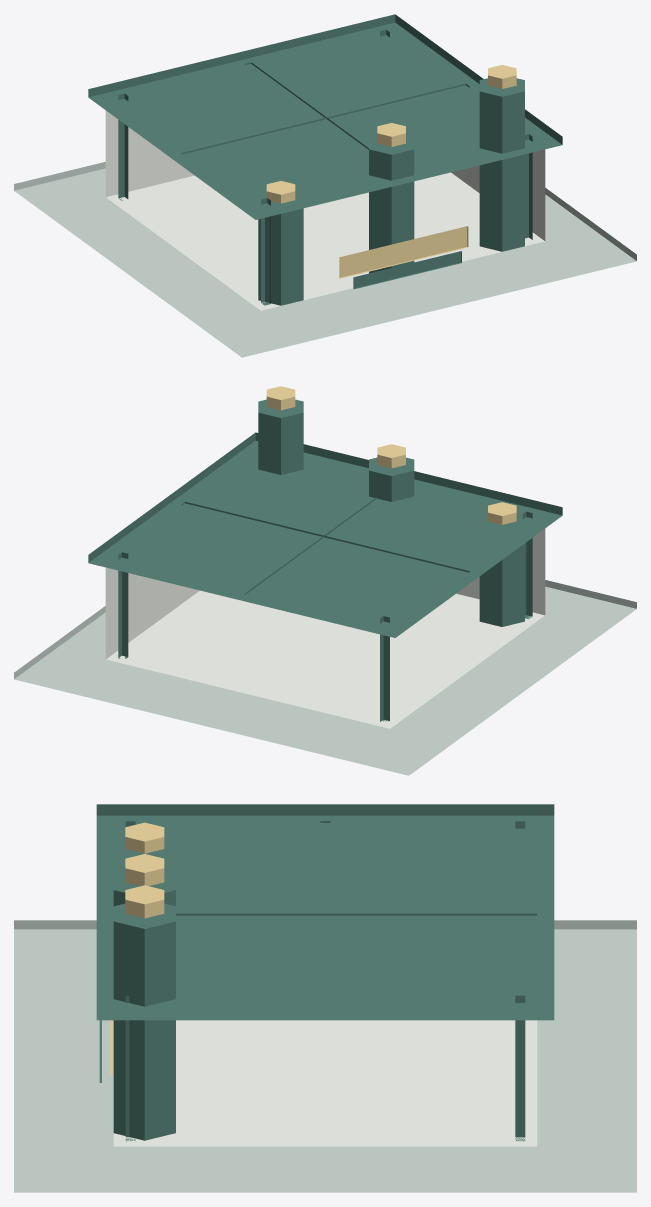
Rendered from water_works.glb.
3 views of the same model, one above another, from view 1: azimuth 30°, elevation 25°; view 2: azimuth 150°, elevation 25°; view 3: azimuth 270°, elevation 25° (orthographic). The views are drawn at different scales.
Visible parts, largest first — view 1: Roof, Foundation, Walls, Details, Frame; view 2: Roof, Walls, Foundation, Details, Frame; view 3: Roof, Foundation, Walls, Details, Frame.
Boxes of the visible parts, box(x1,y1,x2,y2) form: Roof: box(88, 14, 562, 219); Foundation: box(14, 162, 636, 357); Walls: box(105, 110, 545, 310); Details: box(258, 65, 524, 305); Frame: box(118, 29, 532, 305); Roof: box(88, 432, 562, 637); Walls: box(105, 529, 545, 728); Foundation: box(14, 580, 636, 775); Details: box(258, 386, 524, 626); Frame: box(118, 497, 532, 721); Roof: box(96, 804, 554, 1020); Foundation: box(14, 920, 636, 1192); Walls: box(113, 1020, 537, 1146); Details: box(99, 822, 175, 1140); Frame: box(125, 821, 537, 1141).
Size of the model in its own units: 40 by 17 by 40.
